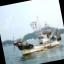fishing boat: (7, 11, 64, 58)
